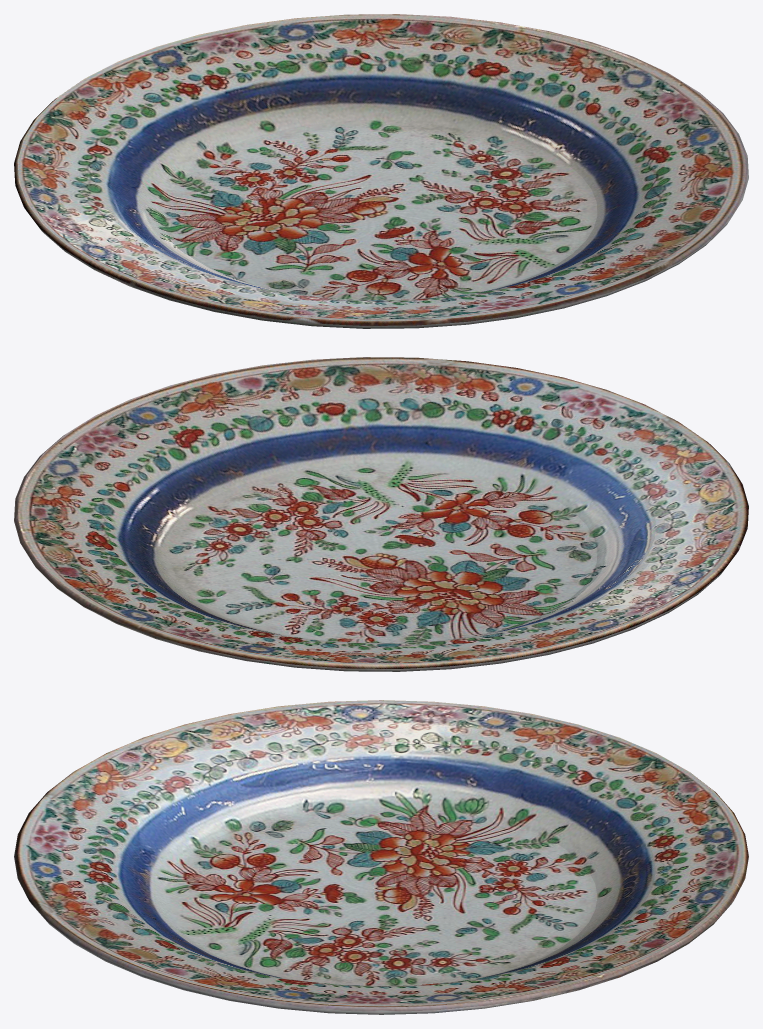
The model's file is plate a.FBX.
The picture shows the model from 3 angles, top to bottom: view 1: azimuth 30°, elevation 25°; view 2: azimuth 150°, elevation 25°; view 3: azimuth 270°, elevation 25°; orthographic projection.
Parts seen in each view (by area): view 1: Cylinder01; view 2: Cylinder01; view 3: Cylinder01.
Part boxes in pixels (left/top/right/bottom): Cylinder01: left=14, top=14, right=748, bottom=328; Cylinder01: left=14, top=357, right=748, bottom=671; Cylinder01: left=14, top=700, right=748, bottom=1014.
Size of the model in its own units: 324 by 25.06 by 324.
1 material, 1 textured.
